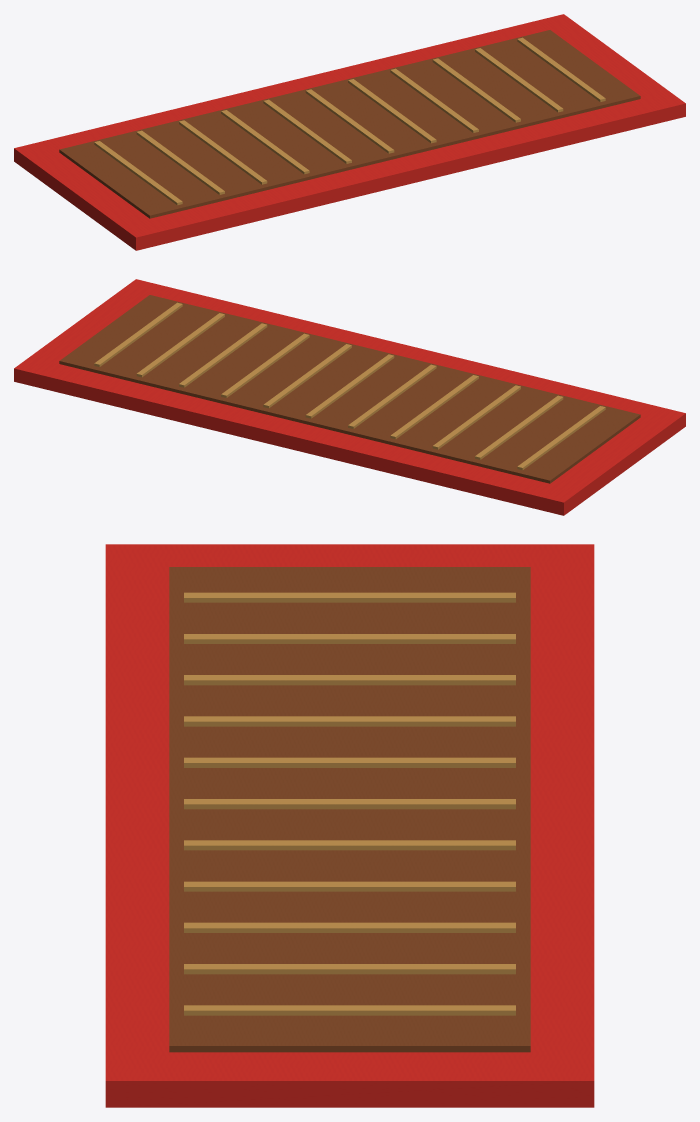
File: doormat.fbx
3 renders of one model, top to bottom at view 1: azimuth 30°, elevation 25°; view 2: azimuth 150°, elevation 25°; view 3: azimuth 270°, elevation 25°, orthographic. The views are drawn at different scales.
Parts seen in each view (by area): view 1: doormat; view 2: doormat; view 3: doormat.
Boxes of the visible parts, bbox=[...] form: doormat: bbox=[14, 14, 685, 250]; doormat: bbox=[14, 279, 685, 515]; doormat: bbox=[105, 544, 594, 1107].
Size of the model in its own units: 1300 by 42.5 by 500.
1 material, 1 textured.
